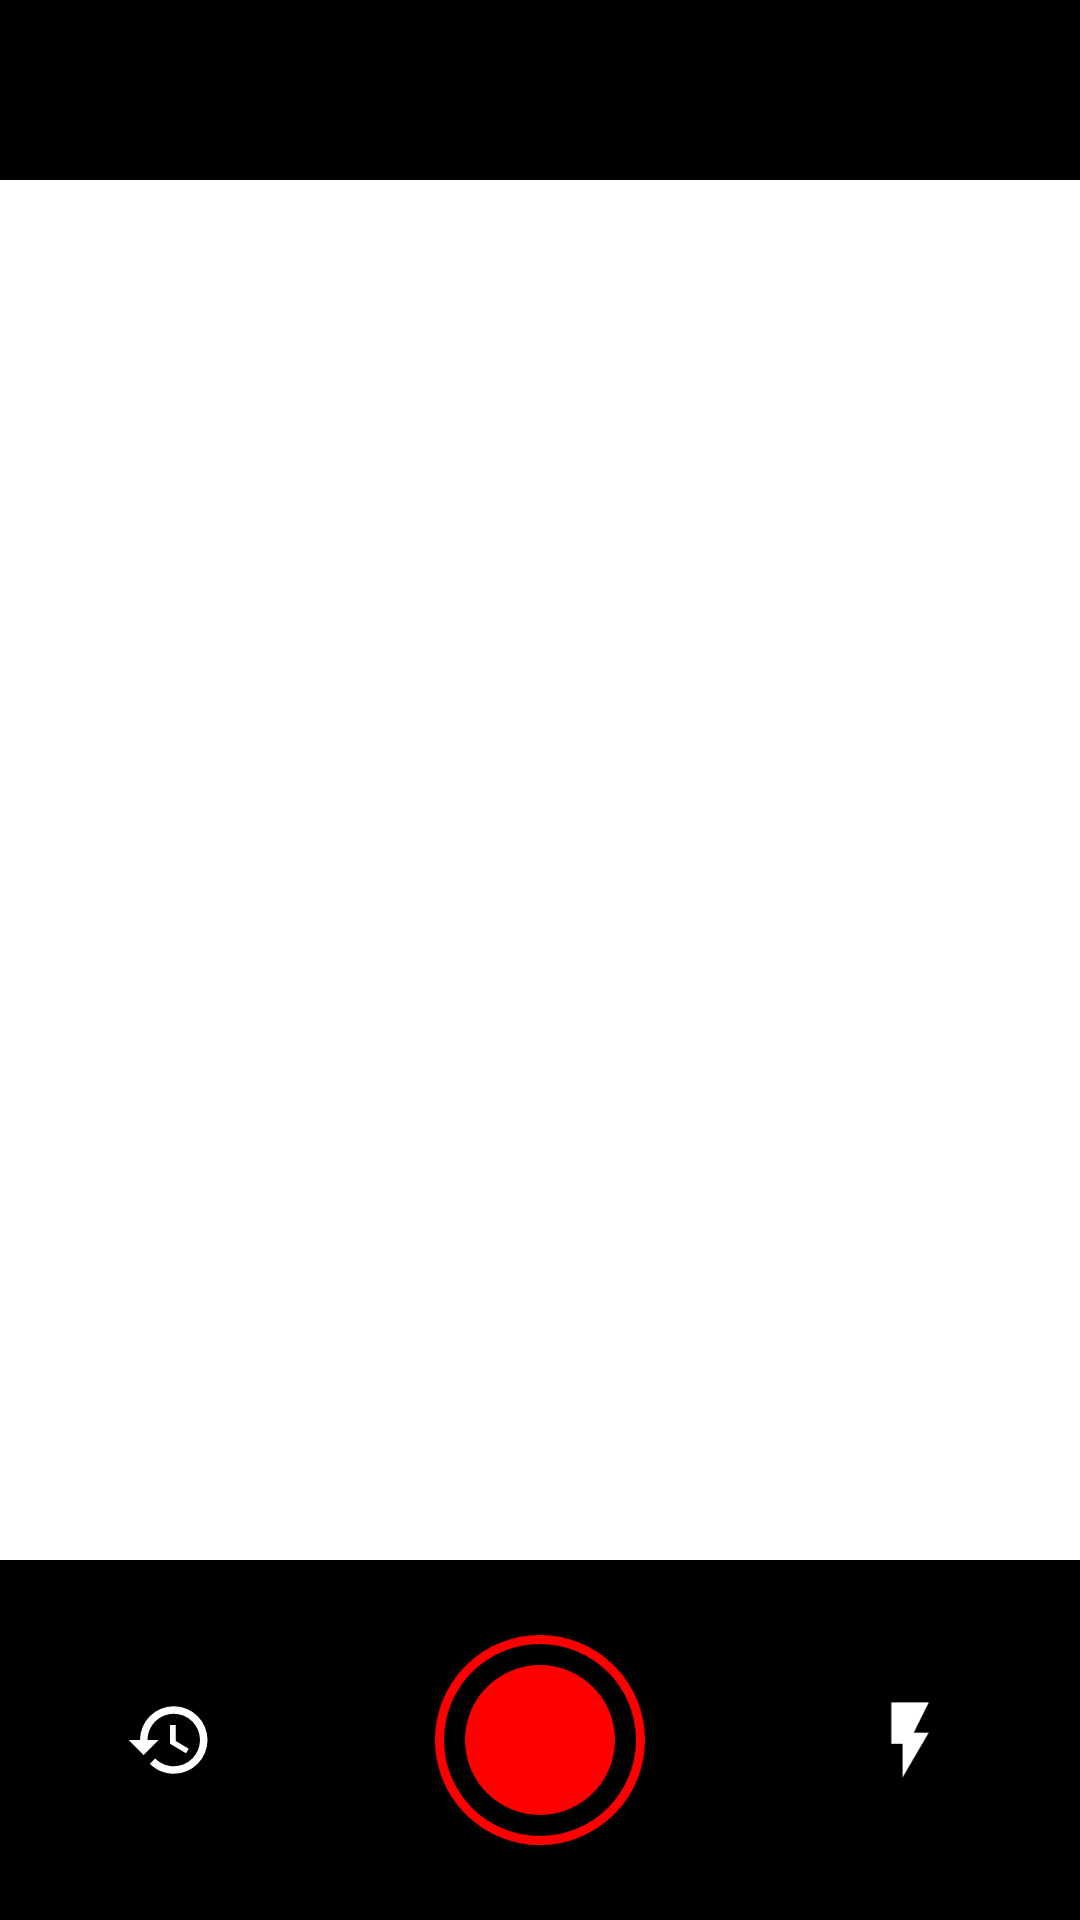

Icon bounding boxes for this 1080 x 1920 phone screenshot, format (x1, y1, x2, y2):
capture: (435, 1635, 645, 1845)
flash: (891, 1702, 929, 1778)
history: (129, 1706, 208, 1774)
